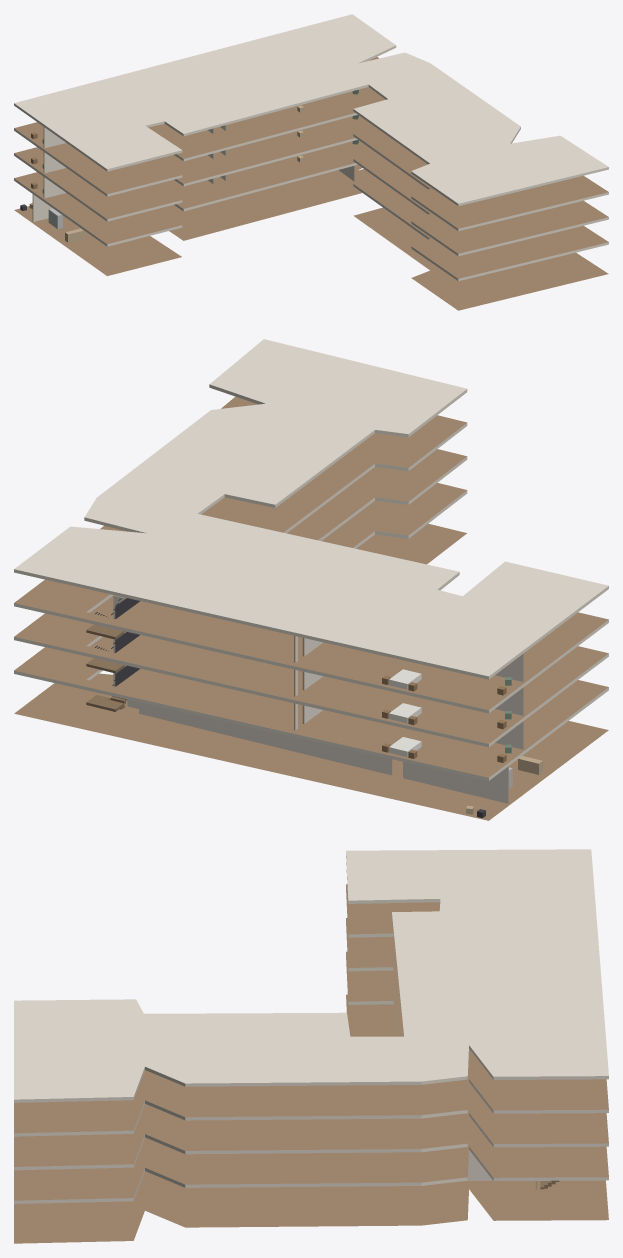
The model's file is interior.glb.
3 views of the same model, one above another, from view 1: azimuth 30°, elevation 25°; view 2: azimuth 150°, elevation 25°; view 3: azimuth 270°, elevation 25° (orthographic). The views are drawn at different scales.
Visible parts, largest first — view 1: slabs, partitions, coarse-s0; view 2: slabs, partitions, stair, coarse-s1, coarse-s3, coarse-s2; view 3: slabs.
Part boxes in pixels (box(x1,y1,x2,y2)): slabs: box(14, 14, 608, 310); partitions: box(32, 125, 355, 221); coarse-s0: box(20, 202, 83, 242); slabs: box(14, 339, 608, 820); partitions: box(113, 595, 524, 803); stair: box(86, 598, 140, 711); coarse-s1: box(382, 737, 511, 762); coarse-s3: box(382, 669, 511, 695); coarse-s2: box(382, 703, 511, 729); slabs: box(14, 849, 608, 1243).
Size of the model in its own units: 42.22 by 11.35 by 42.41.
